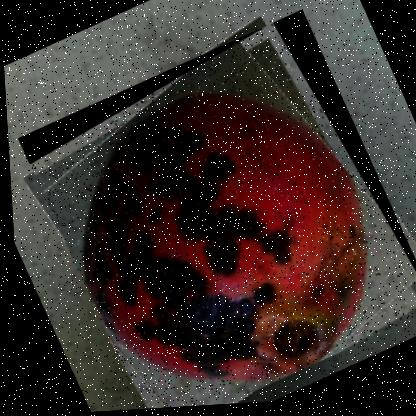pomegranate_rotten: (8, 6, 415, 415)
